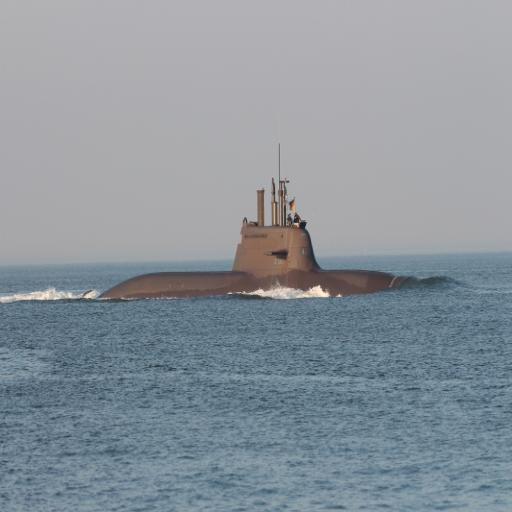submarine: (89, 133, 439, 302)
